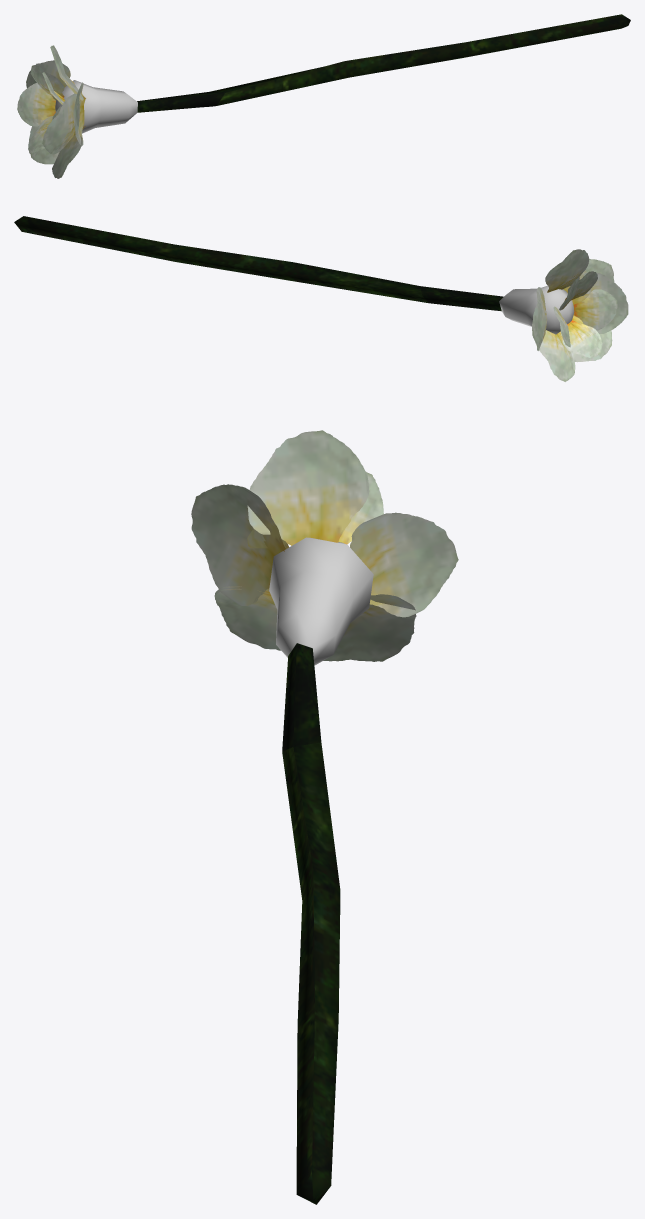
The model's file is white_flower.dae.
3 renders of one model, top to bottom at view 1: azimuth 30°, elevation 25°; view 2: azimuth 150°, elevation 25°; view 3: azimuth 270°, elevation 25°, orthographic. The views are drawn at different scales.
Visible parts, largest first — view 1: orchid_mesh37, polySurface15, polySurface16; view 2: orchid_mesh37, polySurface15, polySurface16; view 3: polySurface15, orchid_mesh37, polySurface16.
Part boxes in pixels (x1=…): orchid_mesh37: x1=137, y1=14, x2=630, y2=112; polySurface15: x1=17, y1=45, x2=85, y2=178; polySurface16: x1=55, y1=80, x2=137, y2=133; orchid_mesh37: x1=14, y1=216, x2=503, y2=311; polySurface15: x1=532, y1=249, x2=628, y2=381; polySurface16: x1=499, y1=285, x2=574, y2=334; polySurface15: x1=191, y1=430, x2=458, y2=661; orchid_mesh37: x1=282, y1=643, x2=340, y2=1204; polySurface16: x1=269, y1=537, x2=373, y2=665.
Size of the model in its own units: 0.781 by 0.1759 by 0.1728.
